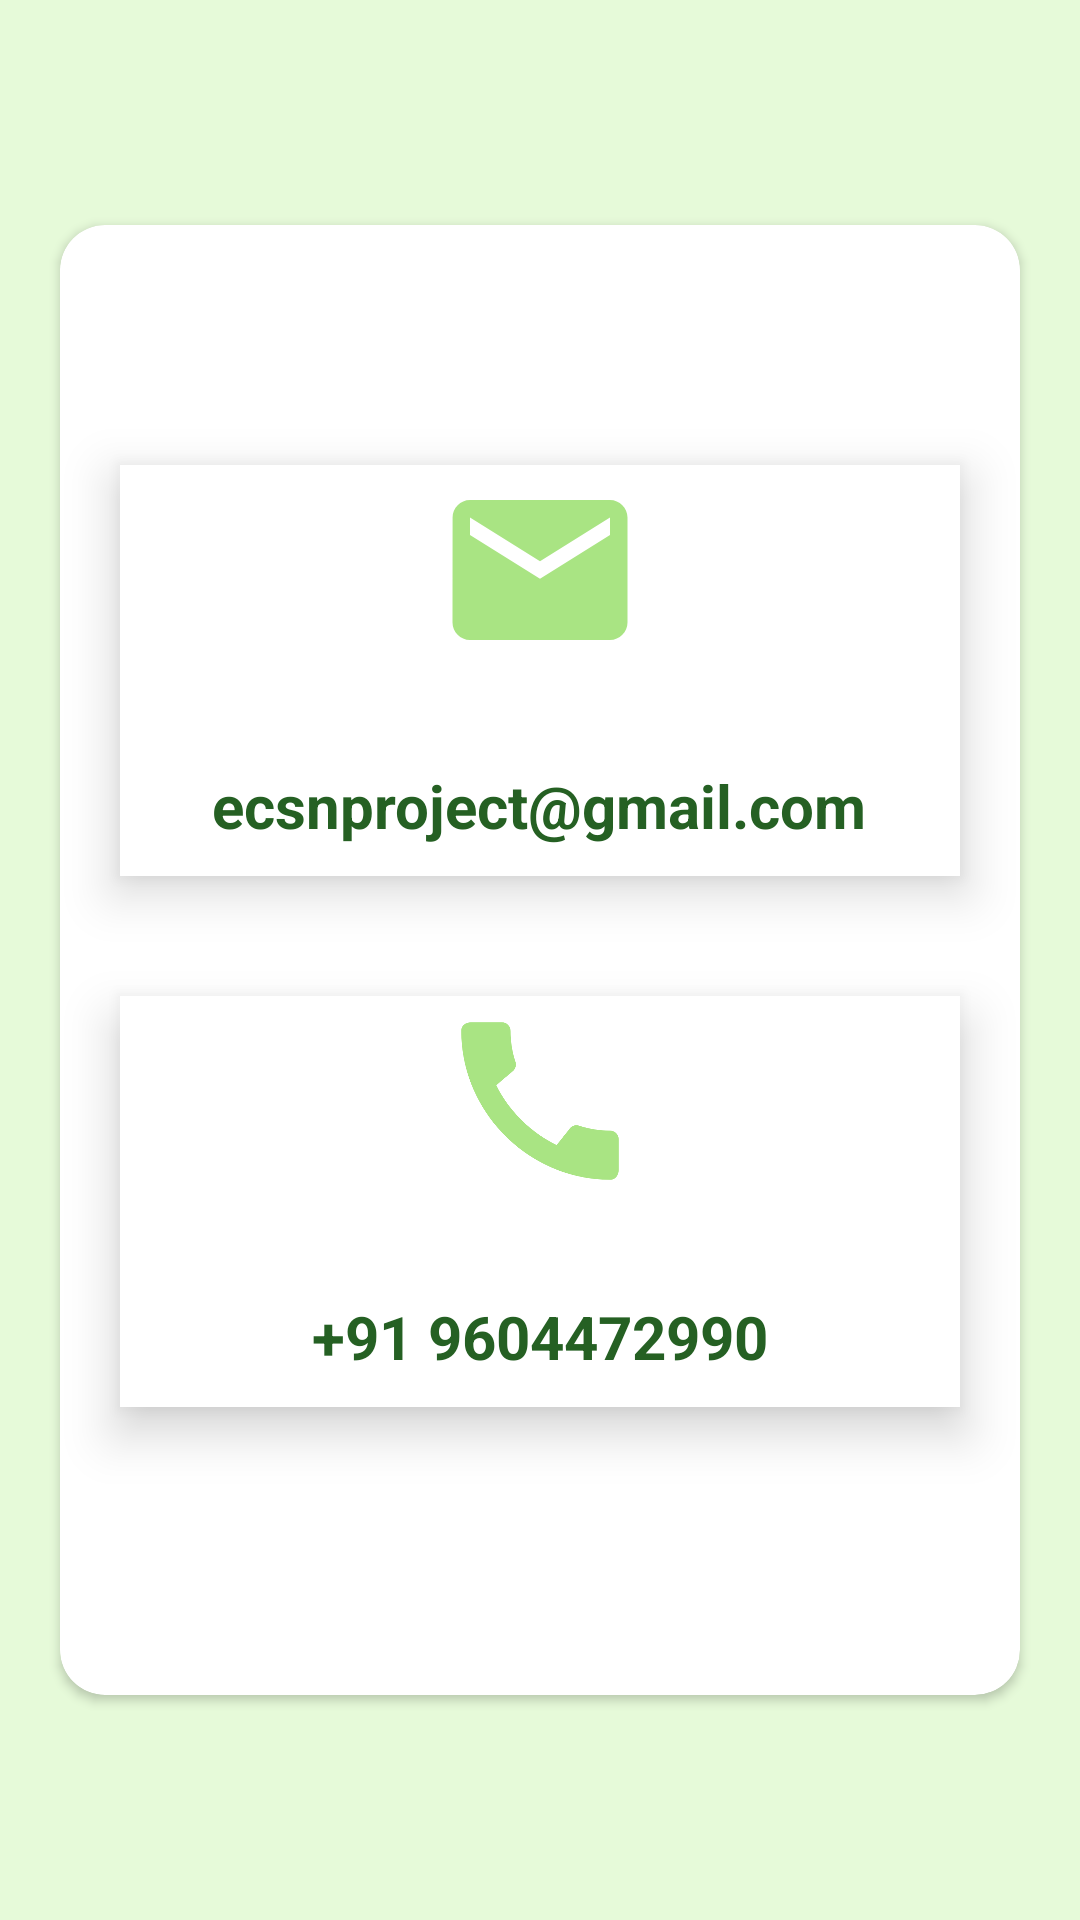

Locate icon controls on the screen. Image size 1080w x 1920h, boxes as (x1, y1, x2, y2).
call: (461, 1022, 619, 1180)
email: (452, 500, 628, 640)
